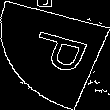P_E: (18, 29, 92, 81)
